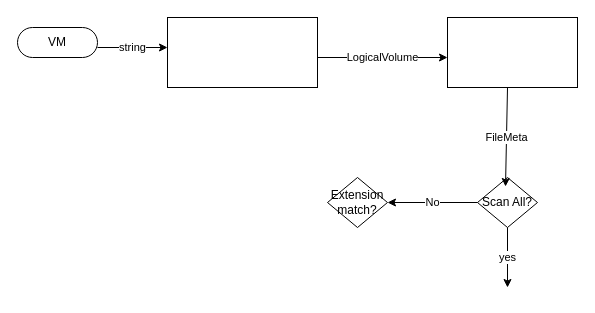
The diagram is 595 pixels wide and 313 high, and some of its shapes have lost their labels. Here are the shapes that lost their labels. From the top down, the centre of each, then its label:
the point at 242,52: FindAndOpen
the point at 512,52: FileOpener
